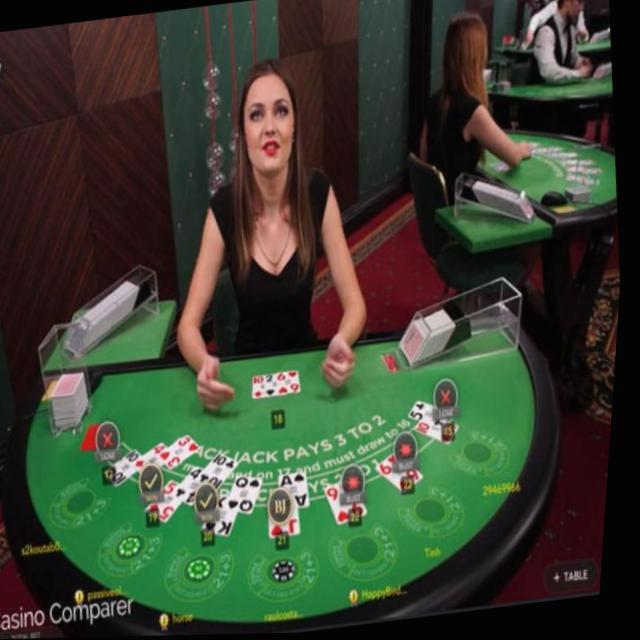Card-10: (201, 454, 243, 492), (110, 449, 147, 488), (420, 422, 465, 445), (257, 376, 270, 399)
Card-2: (270, 375, 283, 397)
Card-3: (165, 435, 207, 471)
Card-4: (138, 442, 174, 482), (179, 466, 213, 508)
Card-5: (151, 480, 188, 523), (414, 402, 457, 430)
Card-6: (381, 454, 430, 494), (281, 371, 305, 396)
Card-9: (331, 483, 374, 526)
Card-A: (285, 473, 316, 509)
Card-J: (276, 509, 306, 538)
Card-K: (209, 498, 245, 537)
Card-Q: (233, 476, 270, 516)
